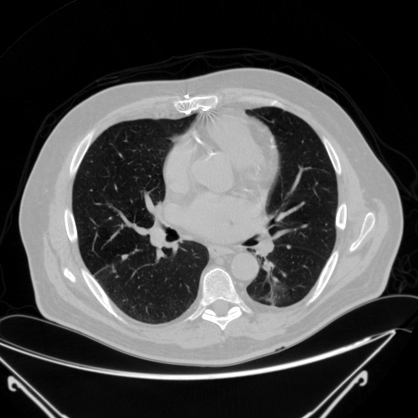nodule: (286, 244, 290, 248)
